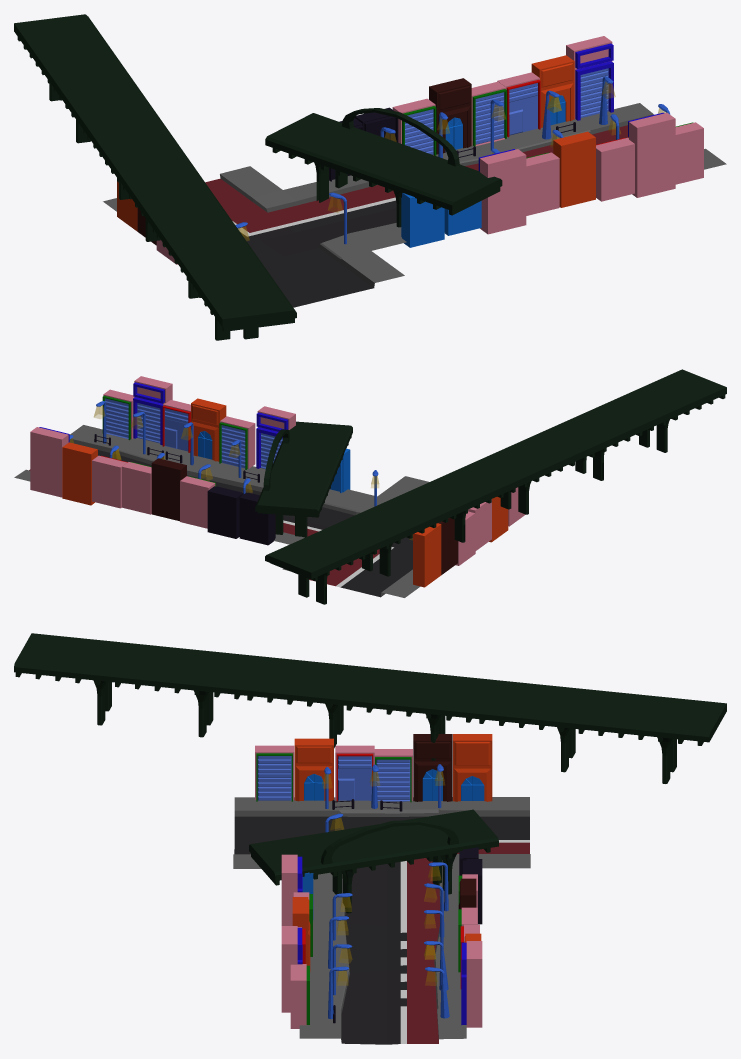
File: city_scene_01.obj
3 renders of one model, top to bottom at view 1: azimuth 30°, elevation 25°; view 2: azimuth 150°, elevation 25°; view 3: azimuth 270°, elevation 25°, orthographic. The views are drawn at different scales.
Visible parts, largest first — view 1: Cube.002, street, Cube.004, storefront_01.003, storefront_01.004, storefront_01.008, storefront_01.002, storefront_01.009, storefront_01.001, storefront_01.006, storefront_01.007, storefront_01 (+7 smaller); view 2: Cube.002, street, Cube.004, storefront_01.008, storefront_01.003, storefront_01.006, storefront_01.009, storefront_01.002, storefront_01, storefront_01.015, storefront_01.018, storefront_01.004 (+11 smaller); view 3: street, Cube.002, Cube.004, storefront_01.015, storefront_01.014, storefront_01.011, storefront_01.010, storefront_01.012, storefront_01.013, storefront_01.008, storefront_01.003, storefront_01.021 (+2 smaller).
Part boxes in pixels (bbox=[...]): Cube.002: bbox=[14, 14, 296, 340]; street: bbox=[103, 103, 726, 307]; Cube.004: bbox=[265, 108, 502, 227]; storefront_01.003: bbox=[628, 112, 675, 197]; storefront_01.004: bbox=[478, 149, 526, 234]; storefront_01.008: bbox=[566, 36, 613, 120]; storefront_01.002: bbox=[553, 131, 595, 207]; storefront_01.009: bbox=[429, 78, 471, 154]; storefront_01.001: bbox=[596, 137, 634, 201]; storefront_01.006: bbox=[531, 55, 574, 127]; storefront_01.007: bbox=[497, 72, 540, 137]; storefront_01: bbox=[526, 152, 559, 215]; Cube.002: bbox=[265, 369, 726, 604]; street: bbox=[14, 425, 429, 597]; Cube.004: bbox=[255, 421, 352, 537]; storefront_01.008: bbox=[30, 427, 69, 497]; storefront_01.003: bbox=[133, 376, 172, 445]; storefront_01.006: bbox=[62, 442, 97, 505]; storefront_01.009: bbox=[151, 458, 186, 521]; storefront_01.002: bbox=[191, 398, 226, 461]; storefront_01: bbox=[219, 416, 255, 469]; storefront_01.015: bbox=[413, 523, 441, 587]; storefront_01.018: bbox=[207, 486, 243, 538]; storefront_01.004: bbox=[256, 406, 295, 468]; street: bbox=[233, 797, 530, 1044]; Cube.002: bbox=[14, 633, 726, 783]; Cube.004: bbox=[249, 809, 498, 913]; storefront_01.015: bbox=[453, 734, 492, 801]; storefront_01.014: bbox=[413, 734, 452, 801]; storefront_01.011: bbox=[294, 738, 333, 801]; storefront_01.010: bbox=[255, 745, 294, 801]; storefront_01.012: bbox=[335, 745, 374, 801]; storefront_01.013: bbox=[373, 749, 412, 802]; storefront_01.008: bbox=[461, 941, 482, 1027]; storefront_01.003: bbox=[281, 926, 302, 1012]; storefront_01.021: bbox=[290, 964, 309, 1028].
Size of the model in its own units: 77.06 by 12.52 by 75.87.
